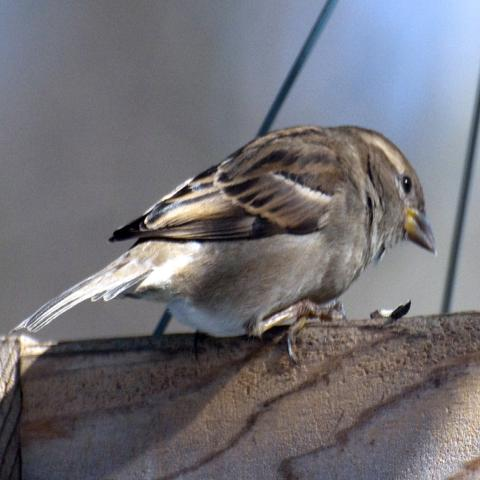bird: (9, 121, 438, 366)
